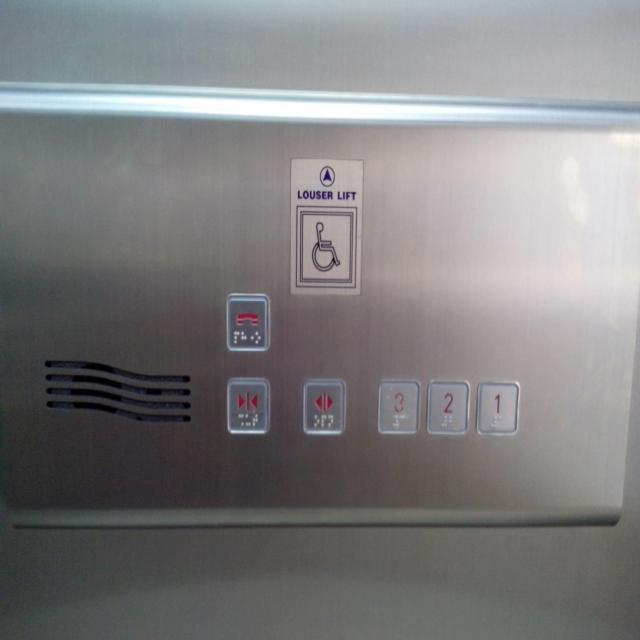1: (476, 381, 520, 434)
2: (426, 378, 470, 436)
3: (377, 379, 421, 434)
CH: (295, 205, 358, 289)
call: (225, 292, 271, 352)
close: (226, 378, 270, 435)
open: (302, 378, 346, 436)
